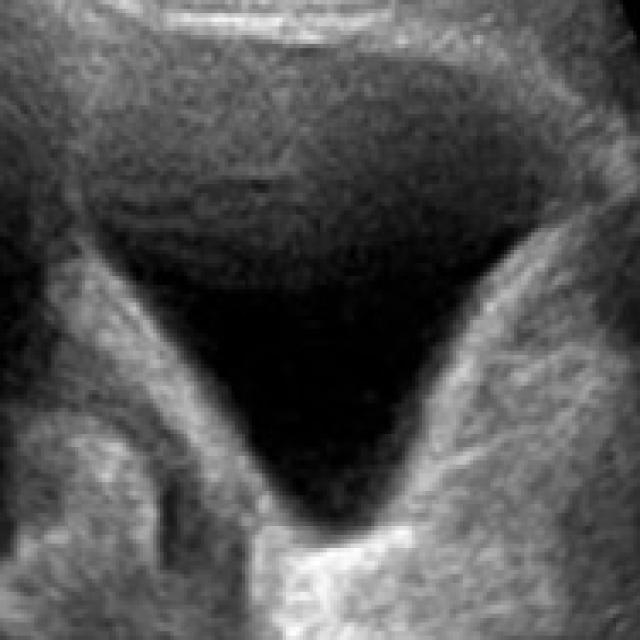bladder: (53, 19, 621, 615)
